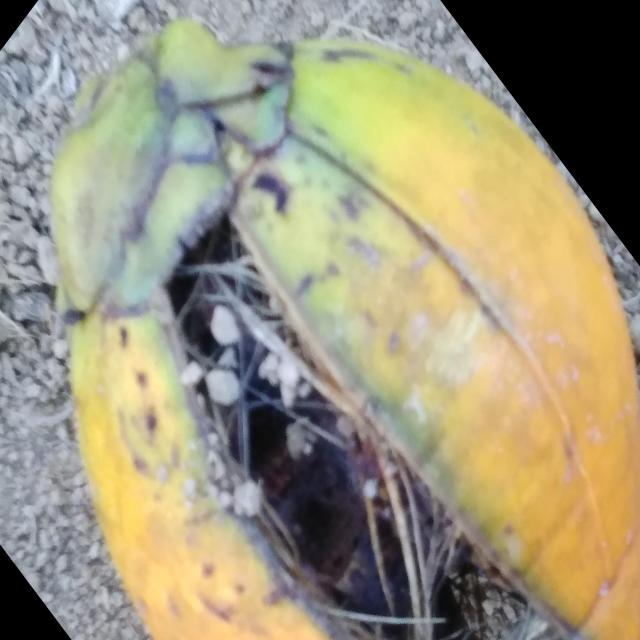damaged: (51, 19, 640, 640)
